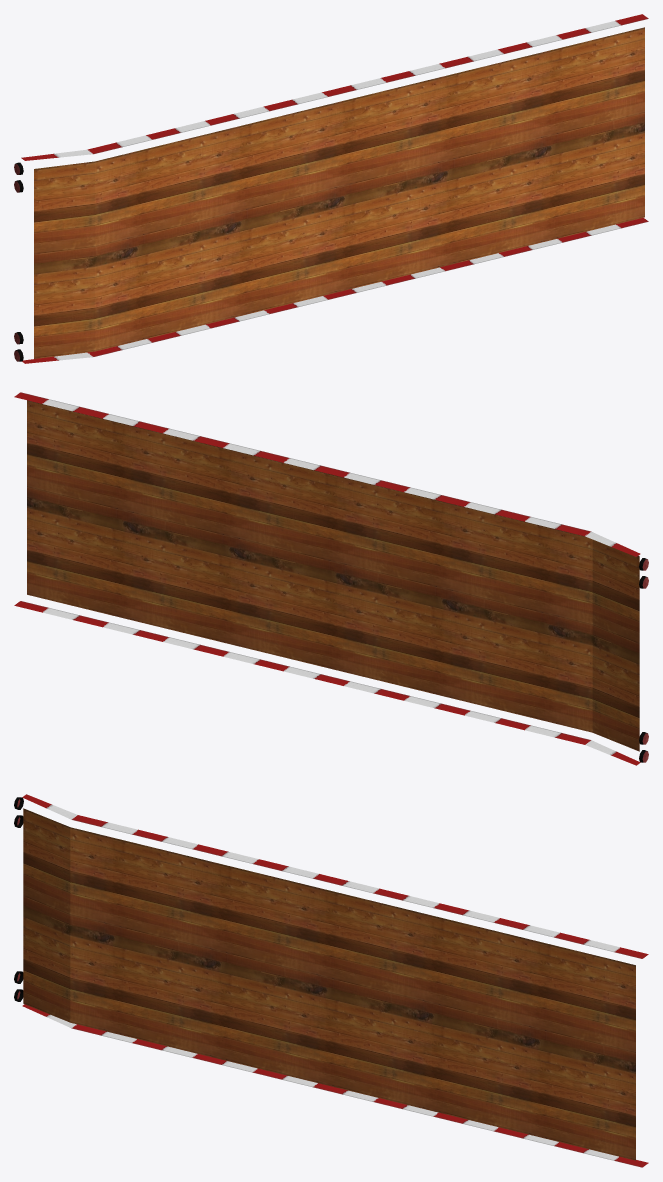
Rendered from details.obj.
The picture shows the model from 3 angles, top to bottom: view 1: azimuth 30°, elevation 25°; view 2: azimuth 150°, elevation 25°; view 3: azimuth 330°, elevation 25°; orthographic projection. The views are drawn at different scales.
Visible parts, largest first — view 1: Wood_Oak, Material__358; view 2: Wood_Oak, Material__358; view 3: Wood_Oak, Material__358.
Boxes of the visible parts, box(x1,y1,x2,y2) form: Wood_Oak: box(34, 27, 644, 358); Material__358: box(21, 14, 648, 363); Wood_Oak: box(27, 400, 639, 751); Material__358: box(14, 392, 640, 765); Wood_Oak: box(23, 808, 635, 1160); Material__358: box(22, 794, 648, 1167).
Bounding box in the file's own units: 6.4 × 2 × 0.2921.
Materials: 4 (3 with a texture image).
